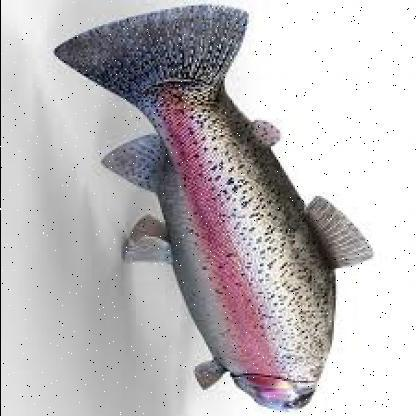fish: (47, 4, 378, 410)
